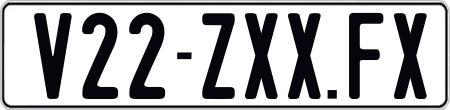2: (127, 13, 165, 101), (82, 12, 118, 98)
F: (348, 11, 383, 101)
V: (31, 11, 75, 103)
X: (287, 11, 324, 101), (243, 13, 281, 100), (394, 10, 427, 99)
Z: (200, 10, 239, 101)
